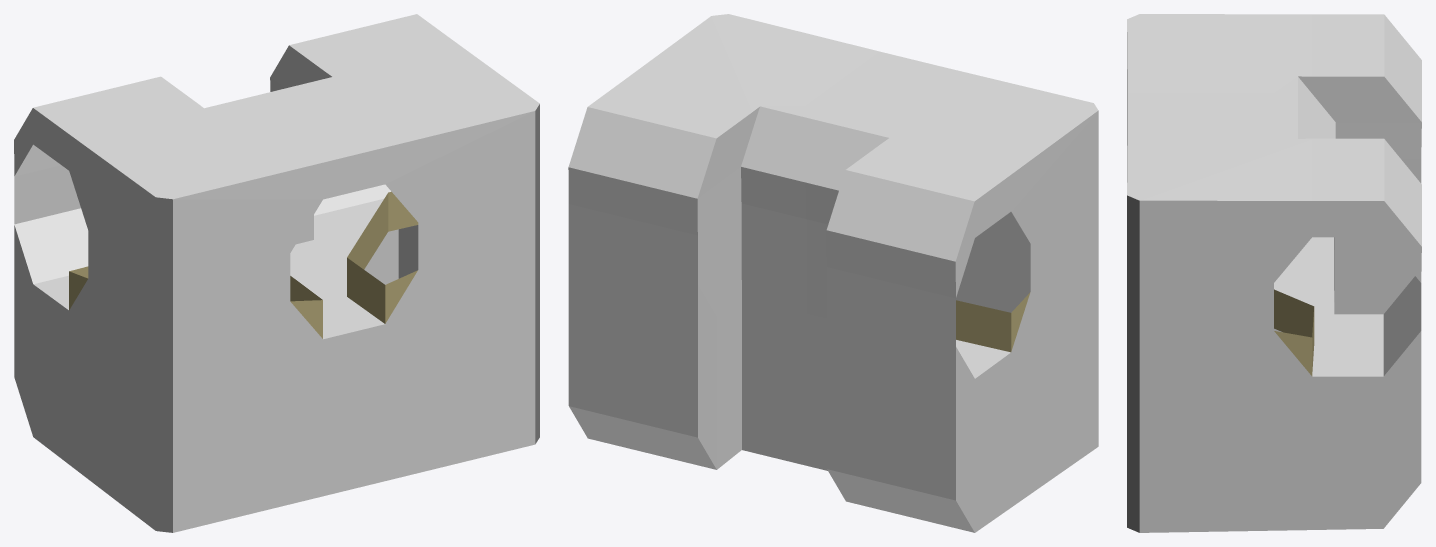
Rendered from room3_pit.gltf.
The picture shows the model from 3 angles, left to right: view 1: azimuth 30°, elevation 25°; view 2: azimuth 150°, elevation 25°; view 3: azimuth 270°, elevation 25°; orthographic projection.
Visible parts, largest first — view 1: Cylinder; view 2: Cylinder; view 3: Cylinder.
Part boxes in pixels (x1,y1,x2,y2): Cylinder: [14, 14, 539, 532]; Cylinder: [568, 14, 1098, 532]; Cylinder: [1127, 14, 1421, 532].
Bounding box in the file's own units: 20.48 × 17 × 13.67.
